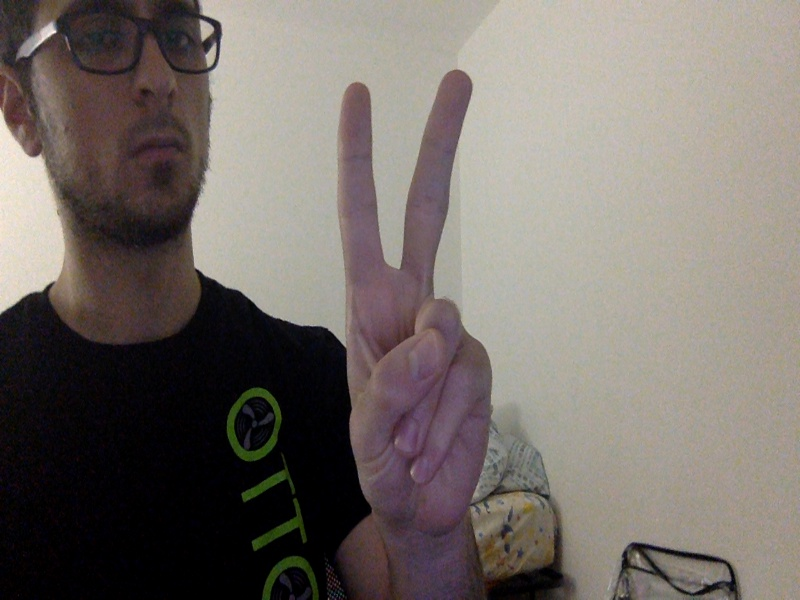2-hand: (333, 69, 494, 529)
